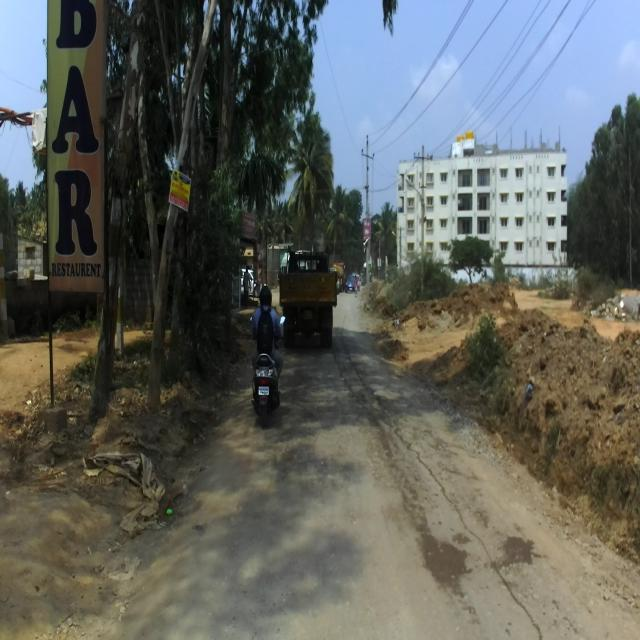motorcycle ahead at: (247, 343, 288, 426)
truck ahead at: (284, 246, 340, 349)
